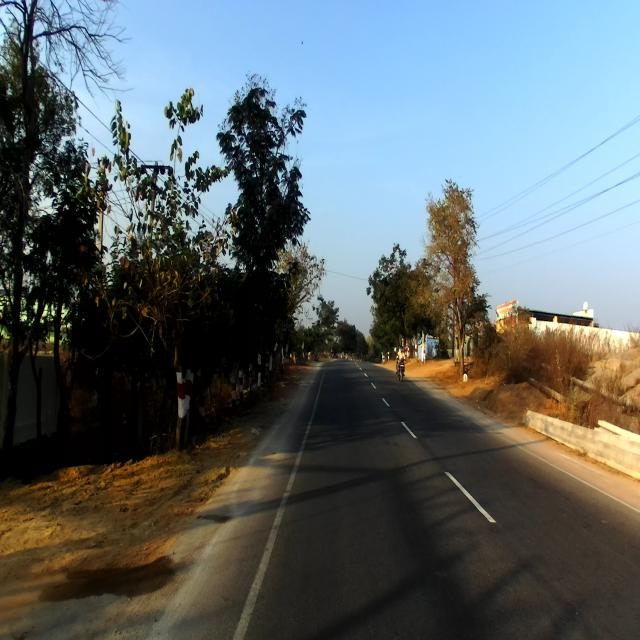tree ahead at: (168, 360, 195, 461)
